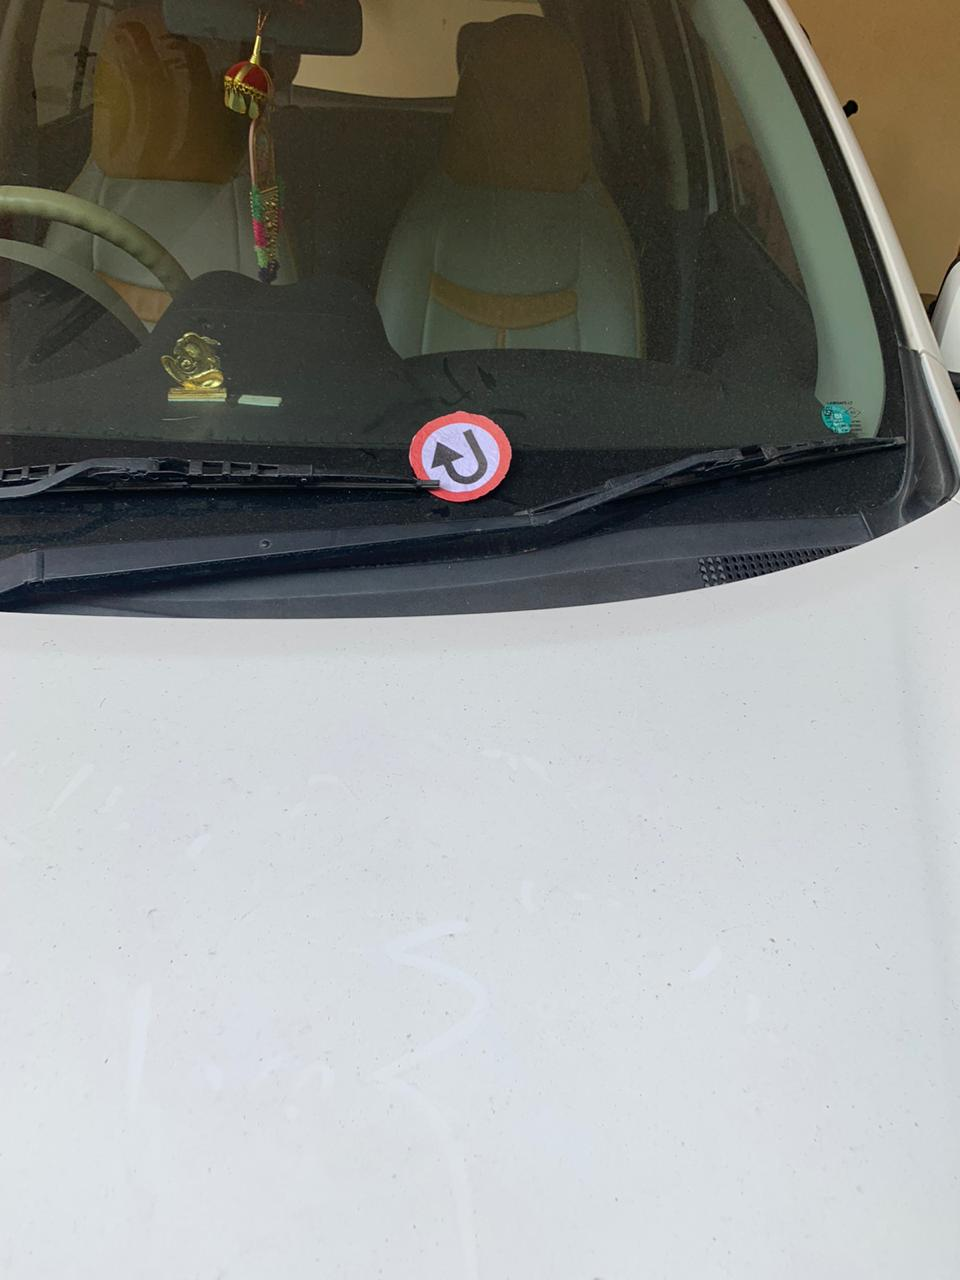U-TURN: (411, 419, 520, 510)
